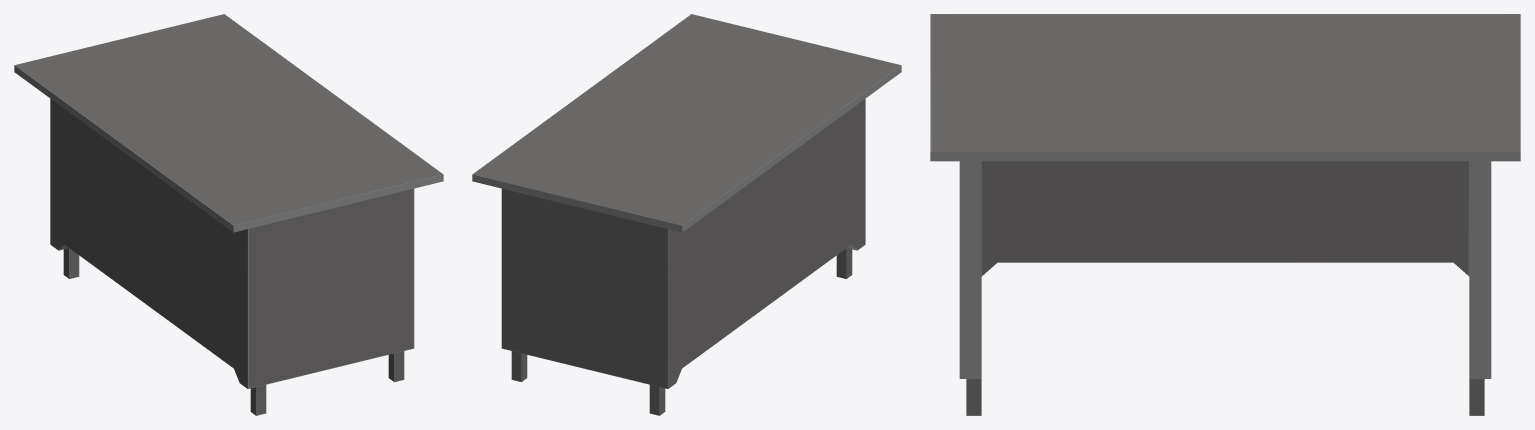
File: DeskVariantOne.fbx
The picture shows the model from 3 angles, left to right: view 1: azimuth 30°, elevation 25°; view 2: azimuth 150°, elevation 25°; view 3: azimuth 270°, elevation 25°; orthographic projection. The views are drawn at different scales.
Visible parts, largest first — view 1: DeskOneVariant; view 2: DeskOneVariant; view 3: DeskOneVariant.
Boxes of the visible parts, x1=… form: DeskOneVariant: x1=14, y1=14, x2=443, y2=415; DeskOneVariant: x1=472, y1=14, x2=901, y2=415; DeskOneVariant: x1=930, y1=14, x2=1520, y2=415.
Size of the model in its own units: 258 by 245 by 466.
